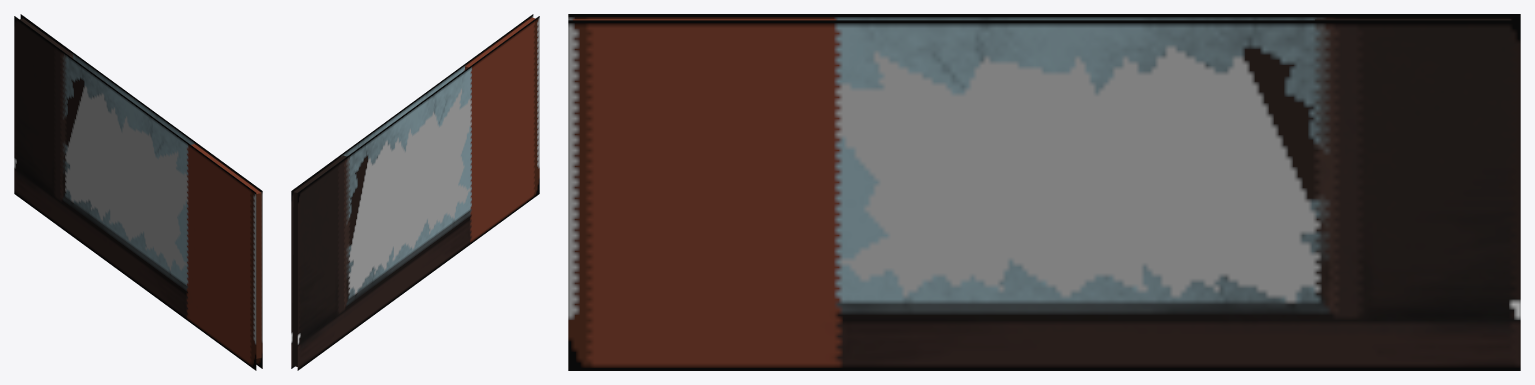
Rendered from pz_native_location_restaurant_seahorse_01_29_frame.obj.
The picture shows the model from 3 angles, left to right: view 1: azimuth 30°, elevation 25°; view 2: azimuth 150°, elevation 25°; view 3: azimuth 270°, elevation 25°; orthographic projection. The views are drawn at different scales.
Parts seen in each view (by area): view 1: pz_native_location_restaurant_seahorse_01_29_frame; view 2: pz_native_location_restaurant_seahorse_01_29_frame; view 3: pz_native_location_restaurant_seahorse_01_29_frame.
Part boxes in pixels (box(x1,y1,x2,y2)): pz_native_location_restaurant_seahorse_01_29_frame: box(14, 14, 262, 370); pz_native_location_restaurant_seahorse_01_29_frame: box(291, 14, 539, 370); pz_native_location_restaurant_seahorse_01_29_frame: box(568, 14, 1520, 370).
Bounding box in the file's own units: 0.04 × 1.03 × 2.54.
1 material, 1 textured.
